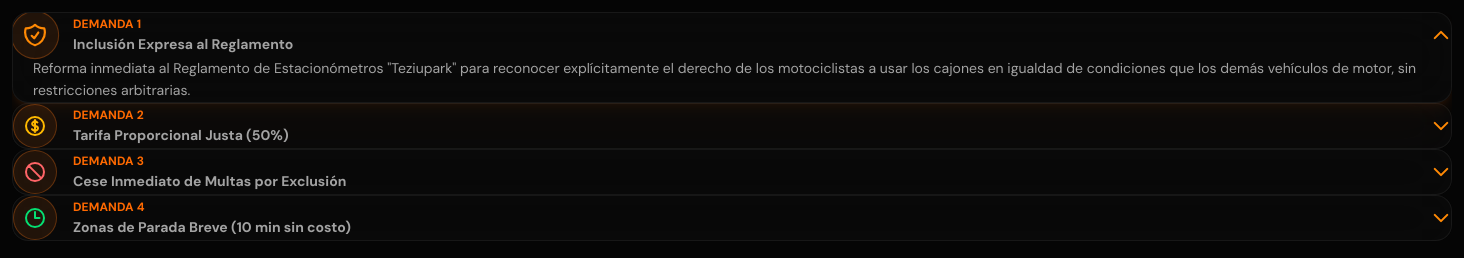
Scenario: AccordionDemands › expands item on click
// First item starts expanded, so click to close it first
Click the button "Demanda 1 Inclusión Expresa al Reglamento" at (105, 24), box [13,13,1451,57]
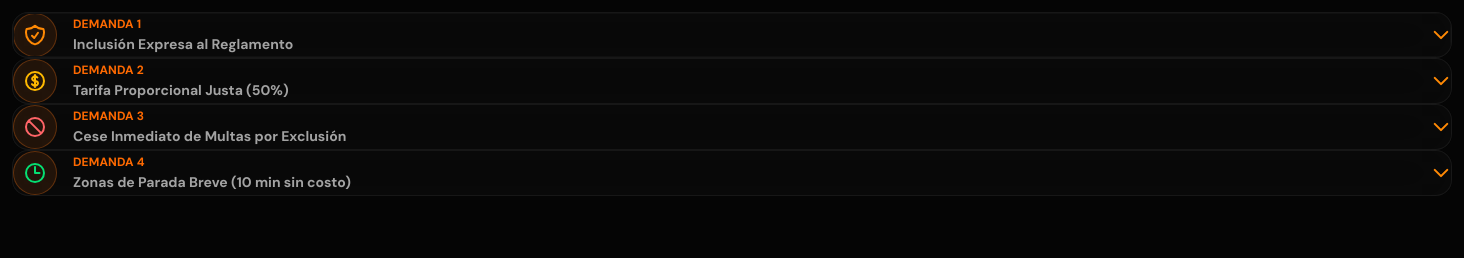
Expected: the button "Demanda 1 Inclusión Expresa al Reglamento" is collapsed
// Click again to open
Click the button "Demanda 1 Inclusión Expresa al Reglamento" at (35, 35), box [13,13,1451,57]
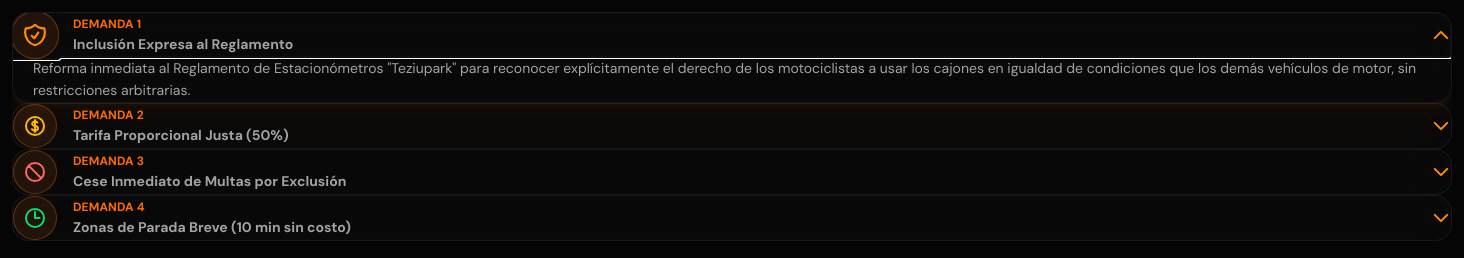
Expected: the button "Demanda 1 Inclusión Expresa al Reglamento" is expanded, [13,13,1451,57]
